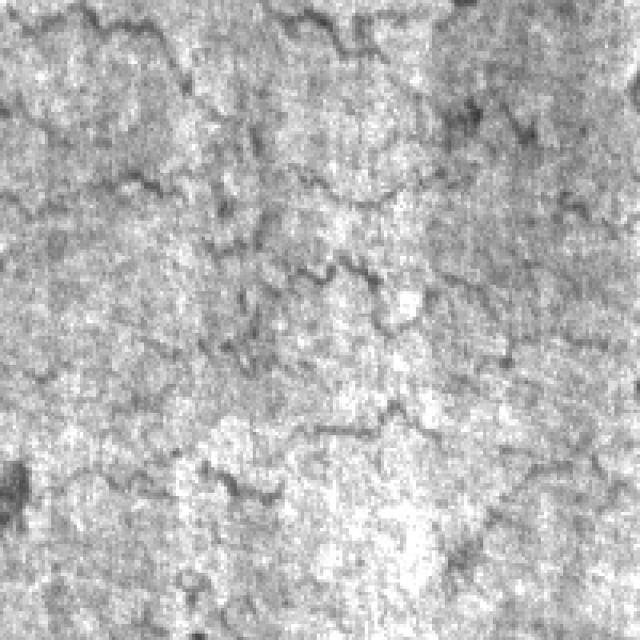crazing: (51, 374, 637, 608), (3, 0, 499, 211), (243, 163, 637, 381)
